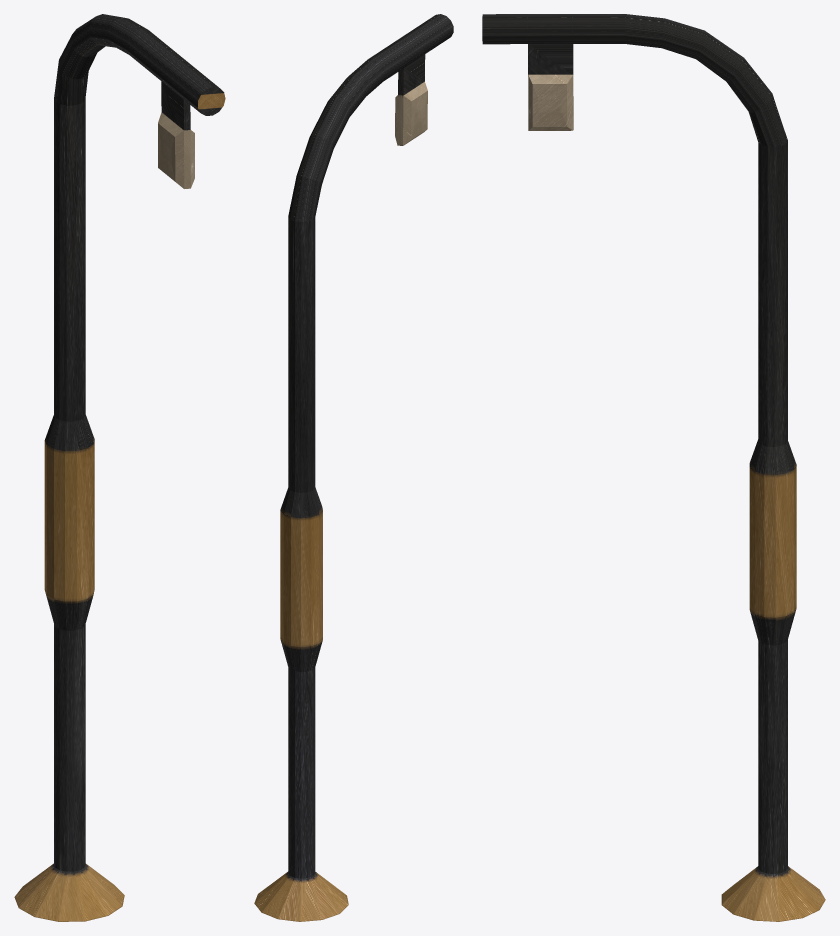
The model's file is poste.obj.
The picture shows the model from 3 angles, left to right: view 1: azimuth 30°, elevation 25°; view 2: azimuth 150°, elevation 25°; view 3: azimuth 270°, elevation 25°; orthographic projection. The views are drawn at different scales.
Visible parts, largest first — view 1: Cylinder; view 2: Cylinder; view 3: Cylinder.
Boxes of the visible parts, left/top/right/bottom form: Cylinder: left=14, top=14, right=225, bottom=921; Cylinder: left=254, top=14, right=453, bottom=921; Cylinder: left=482, top=14, right=825, bottom=921.
Bounding box in the file's own units: 1.41 × 13.11 × 4.63.
